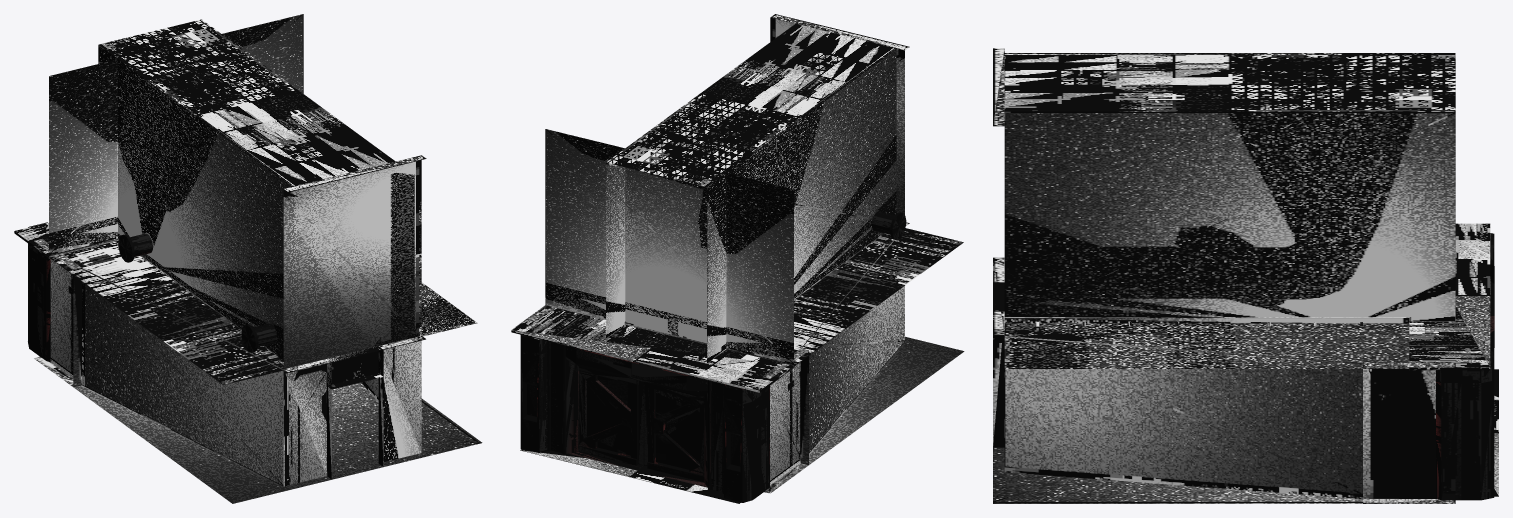
The picture shows the model from 3 angles, left to right: view 1: azimuth 30°, elevation 25°; view 2: azimuth 150°, elevation 25°; view 3: azimuth 270°, elevation 25°; orthographic projection. The views are drawn at different scales.
Visible parts, largest first — view 1: endroom2_opt.rmesh; view 2: endroom2_opt.rmesh; view 3: endroom2_opt.rmesh.
Boxes of the visible parts, x1,y1,x2,y2 form: endroom2_opt.rmesh: (14,14,482,503); endroom2_opt.rmesh: (511,14,964,503); endroom2_opt.rmesh: (993,48,1498,503).
Size of the model in its own units: 9.44 by 10.57 by 14.
1 material, 1 textured.
